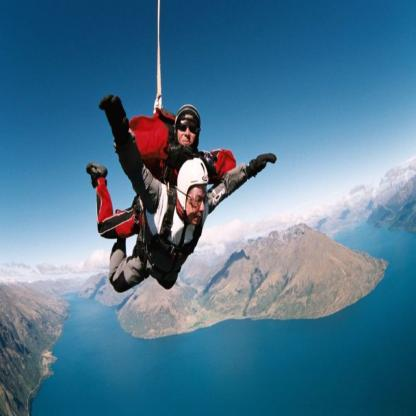Helmet: (174, 159, 209, 211), (170, 105, 202, 150)
